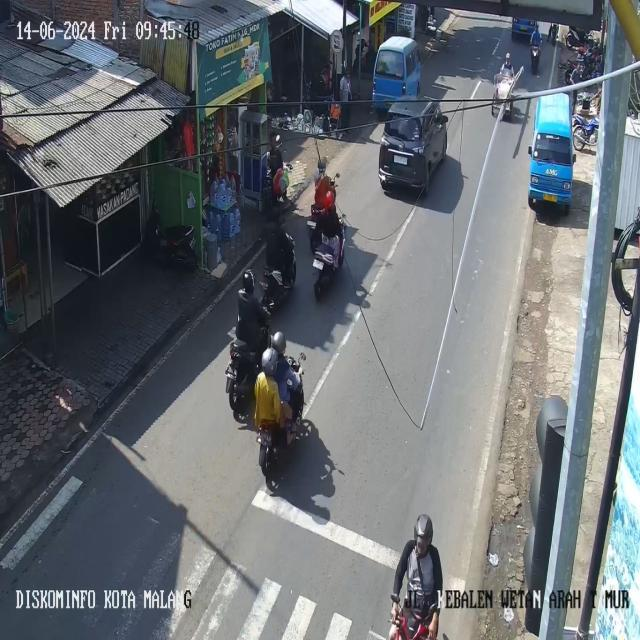Helmet: (414, 514, 432, 546), (261, 347, 277, 376), (271, 331, 285, 354), (243, 270, 255, 294), (324, 191, 334, 208), (505, 52, 510, 62)
Number Plate: (394, 155, 407, 165), (543, 194, 557, 202), (313, 259, 323, 269), (307, 220, 315, 228)
Rearview Mirror: (440, 115, 448, 123), (572, 153, 576, 162), (528, 146, 531, 155), (335, 173, 340, 178)
